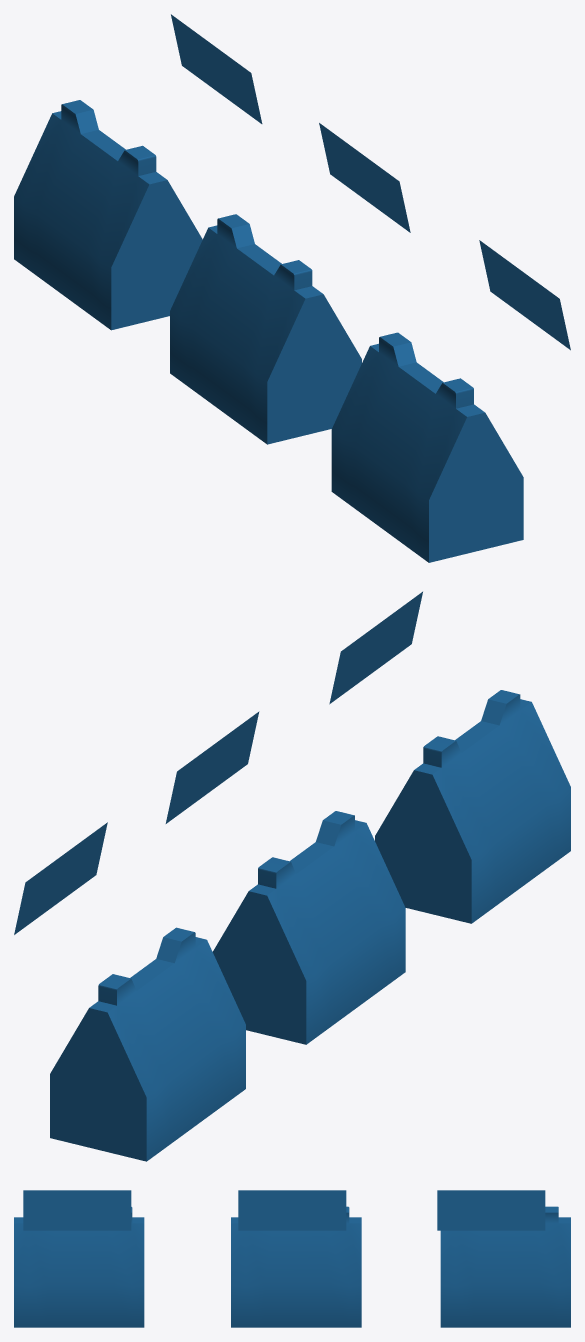
The model's file is barricades.fbx.
The picture shows the model from 3 angles, top to bottom: view 1: azimuth 30°, elevation 25°; view 2: azimuth 150°, elevation 25°; view 3: azimuth 270°, elevation 25°; orthographic projection. The views are drawn at different scales.
Parts seen in each view (by area): view 1: barricade15; view 2: barricade15; view 3: barricade15.
Part boxes in pixels (x1,y1,x2,y2): barricade15: (14,14,570,562); barricade15: (14,591,570,1161); barricade15: (14,1190,570,1327).
Size of the model in its own units: 1.21 by 1.75 by 5.83.
